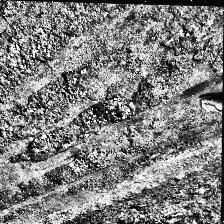pothole: (83, 97, 135, 136), (14, 127, 70, 162)
